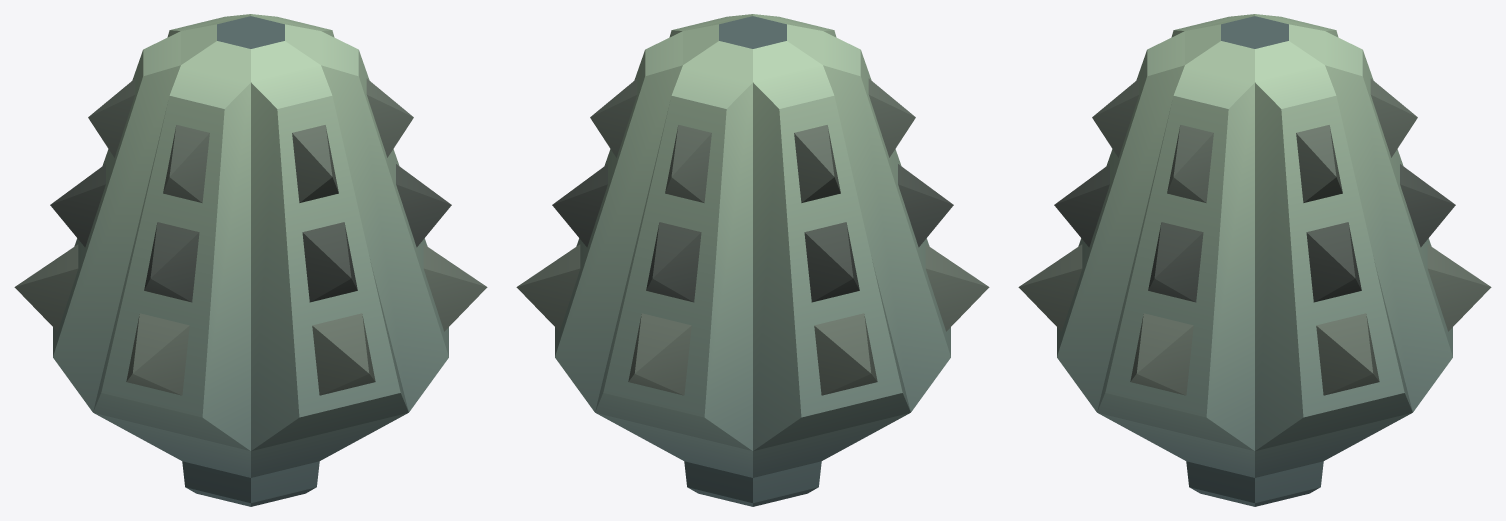
Rendered from mace-head_001.fbx.
3 renders of one model, left to right at view 1: azimuth 30°, elevation 25°; view 2: azimuth 150°, elevation 25°; view 3: azimuth 270°, elevation 25°, orthographic.
Visible parts, largest first — view 1: mace-head.001; view 2: mace-head.001; view 3: mace-head.001.
Boxes of the visible parts, x1,y1,x2,y2 form: mace-head.001: (14,14,487,506); mace-head.001: (516,14,989,506); mace-head.001: (1018,14,1491,506).
Size of the model in its own units: 33.87 by 40.84 by 39.11.
